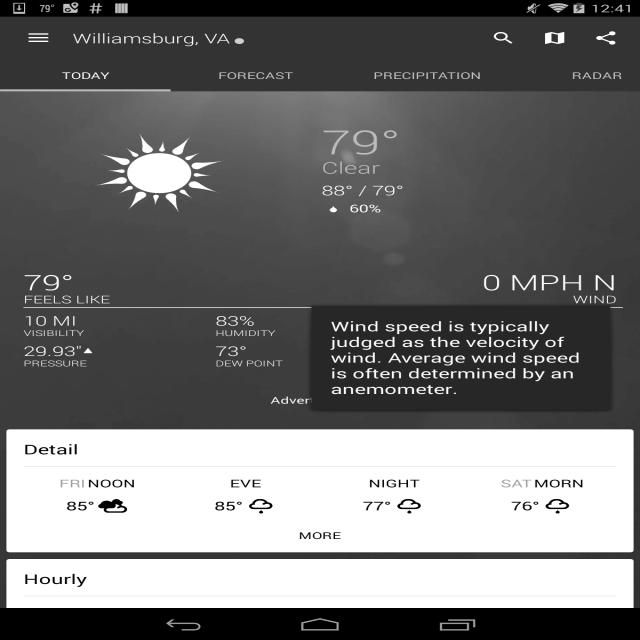ImageButton: (9, 17, 68, 59)
ImageView: (0, 59, 640, 608), (90, 130, 228, 216), (96, 496, 128, 516), (245, 496, 277, 516), (393, 496, 425, 516), (542, 496, 574, 516), (322, 201, 345, 216)
TextView: (482, 270, 617, 296), (408, 313, 625, 329), (408, 344, 625, 359), (73, 29, 250, 47), (215, 313, 408, 329), (23, 313, 215, 329), (322, 124, 401, 162), (215, 344, 408, 359), (23, 344, 215, 359), (408, 328, 625, 338), (408, 358, 625, 368), (215, 328, 408, 338), (215, 358, 408, 368), (23, 328, 215, 338), (23, 358, 215, 368), (580, 22, 632, 54), (23, 570, 87, 596), (478, 22, 529, 54), (529, 22, 580, 54), (23, 440, 78, 466), (373, 69, 480, 82), (23, 270, 74, 296), (322, 183, 404, 199), (270, 394, 370, 406), (322, 157, 379, 178), (23, 293, 110, 306), (298, 516, 340, 542), (218, 69, 293, 82), (226, 603, 266, 625), (374, 603, 414, 625), (78, 603, 117, 625), (523, 603, 562, 625), (368, 476, 419, 490), (534, 476, 584, 490), (88, 476, 136, 490), (572, 69, 622, 82), (62, 69, 110, 82), (66, 496, 97, 516), (214, 496, 245, 516), (363, 496, 393, 516), (511, 496, 541, 516), (573, 293, 616, 306), (345, 202, 381, 215), (230, 476, 261, 490), (501, 476, 532, 490), (60, 476, 86, 490)
